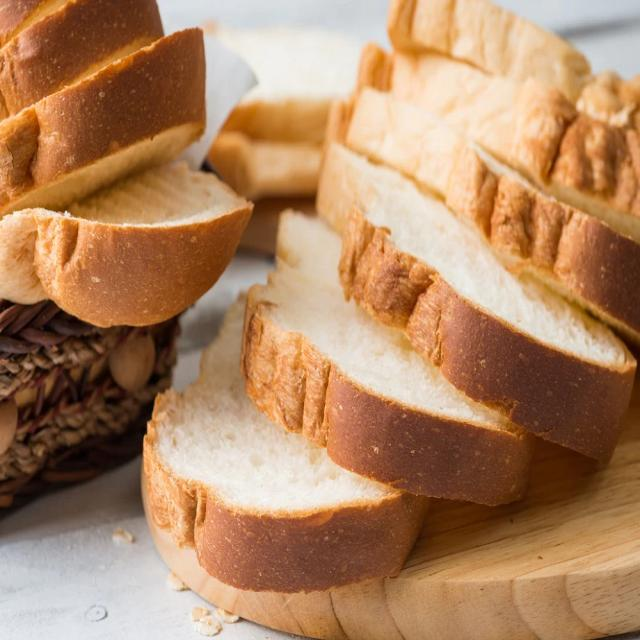Bread: (128, 0, 640, 604), (0, 0, 258, 332)
